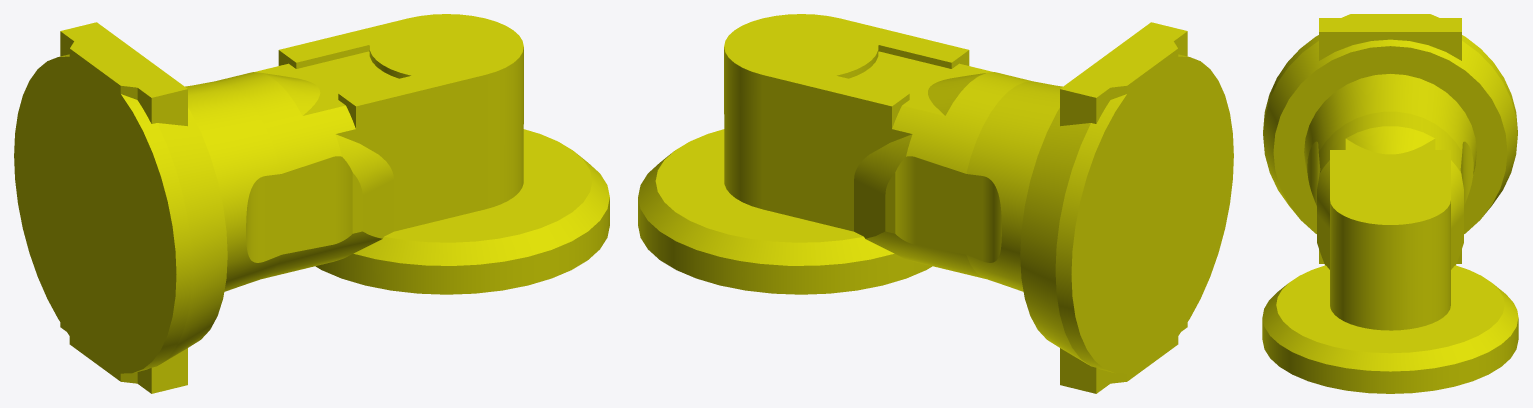
The picture shows the model from 3 angles, left to right: view 1: azimuth 30°, elevation 25°; view 2: azimuth 150°, elevation 25°; view 3: azimuth 270°, elevation 25°; orthographic projection. The views are drawn at different scales.
Visible parts, largest first — view 1: 3D_J4_AllCATPart; view 2: 3D_J4_AllCATPart; view 3: 3D_J4_AllCATPart.
Boxes of the visible parts, bbox=[...] form: 3D_J4_AllCATPart: bbox=[14, 14, 609, 393]; 3D_J4_AllCATPart: bbox=[638, 14, 1233, 393]; 3D_J4_AllCATPart: bbox=[1262, 14, 1518, 393].
Bounding box in the file's own units: 324 × 186 × 186.
